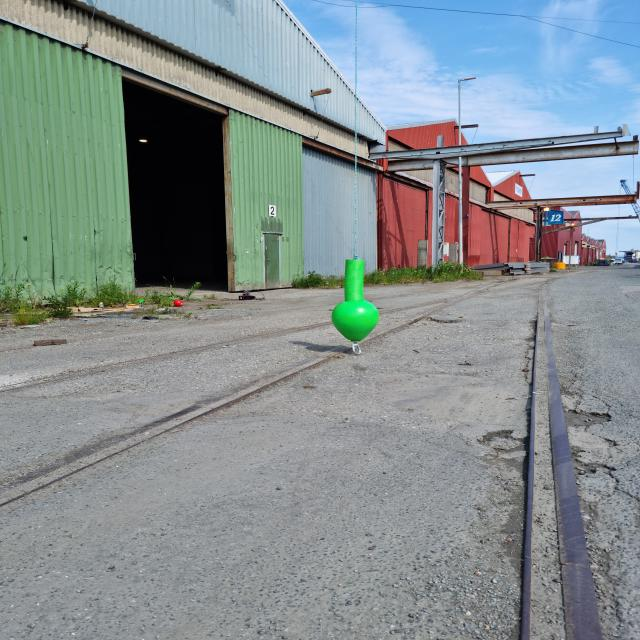green: (332, 259, 381, 342)
